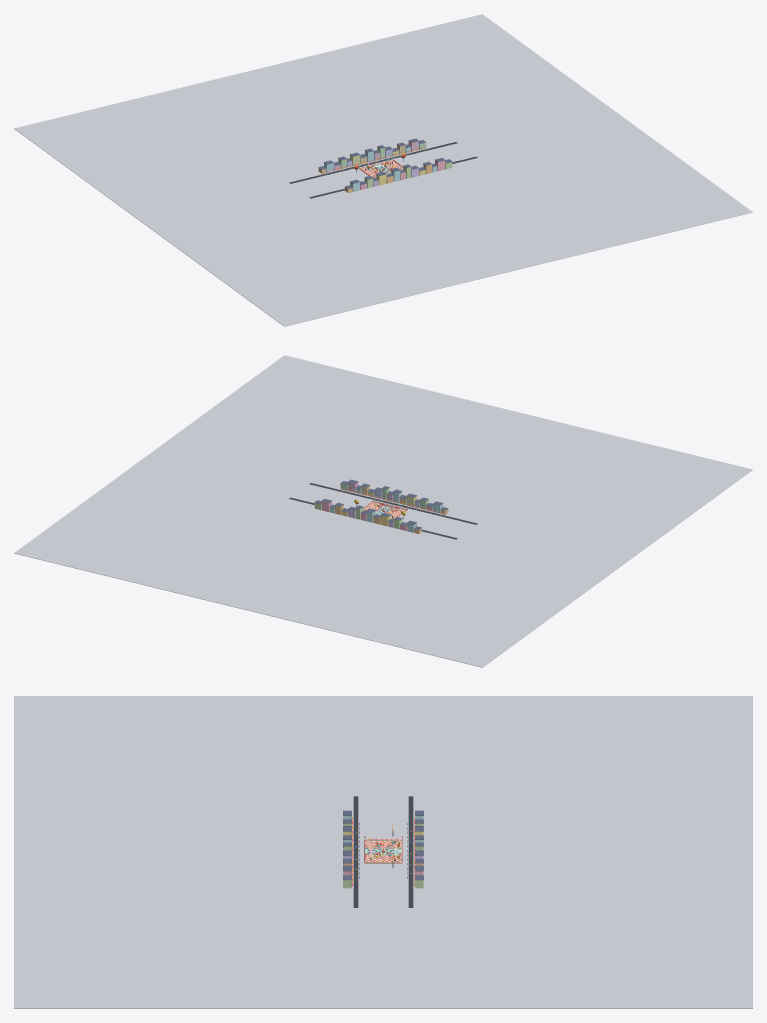
Rendered from restaurante.glb.
3 views of the same model, one above another, from view 1: azimuth 30°, elevation 25°; view 2: azimuth 150°, elevation 25°; view 3: azimuth 270°, elevation 25° (orthographic). The views are drawn at different scales.
Parts seen in each view (by area): view 1: Visual; view 2: Visual; view 3: Visual.
Part boxes in pixels (x1,y1,x2,y2): Visual: (14, 14, 752, 326); Visual: (14, 355, 752, 667); Visual: (14, 696, 752, 1008).
Bounding box in the file's own units: 1400 × 33.45 × 1400.
